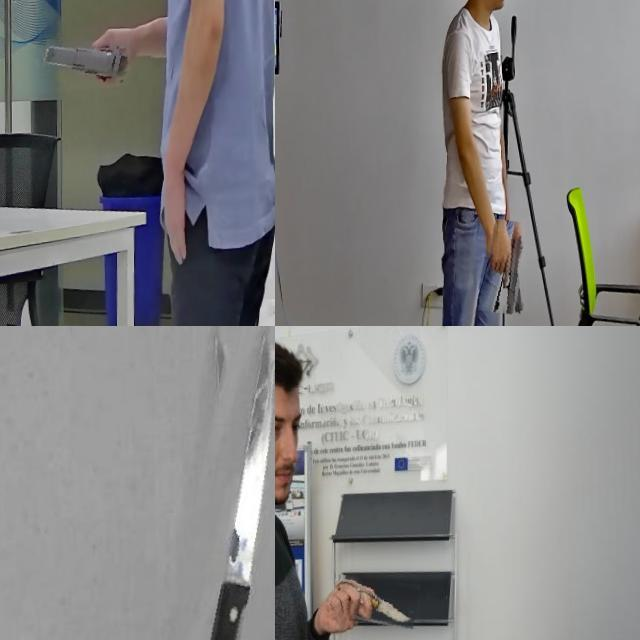-: (152, 326, 275, 640), (328, 578, 419, 636)
gun-knife-thesis - v11 Yolov5 augmented: (40, 41, 129, 94), (480, 224, 526, 320)
